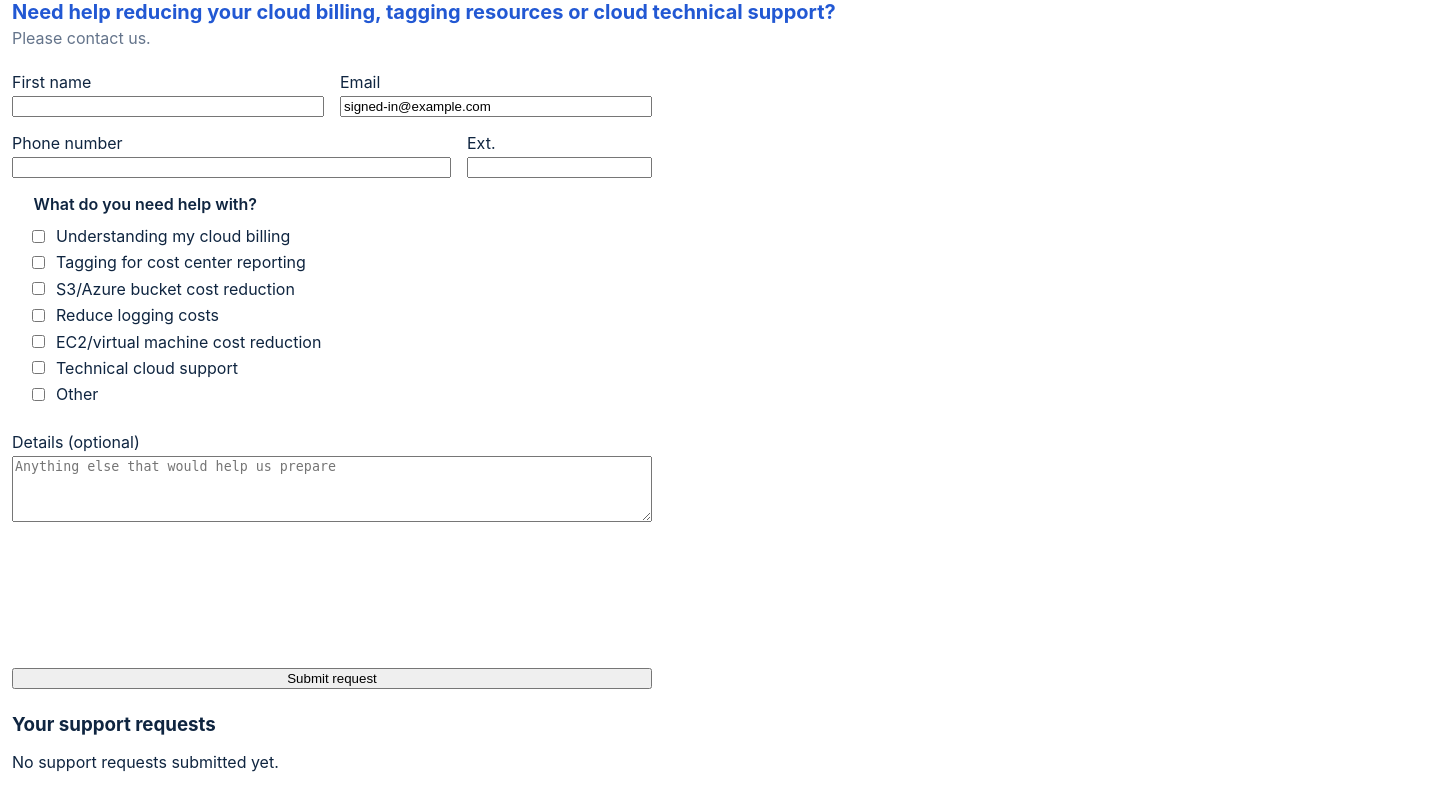
Test case: SupportTab › submits the chosen topics and contact details, then refreshes the grid
In the field labelled "First name": coordinates (168, 106) [12, 96, 324, 117], type "Dana"
In the field labelled "Phone number": coordinates (232, 168) [12, 157, 451, 178], type "555-0100"
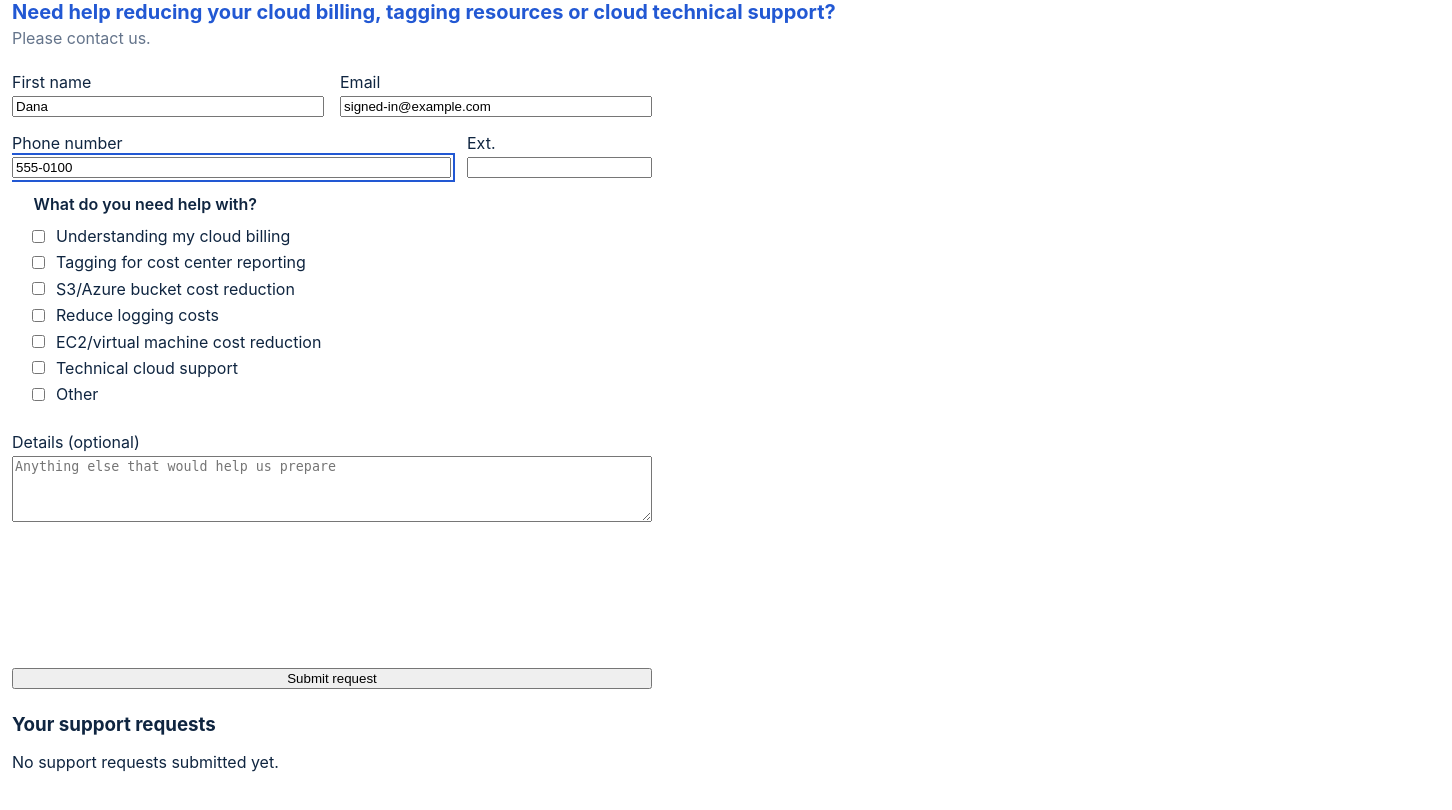
In the field labelled "Ext.": coordinates (560, 168) [467, 157, 652, 178], type "42"
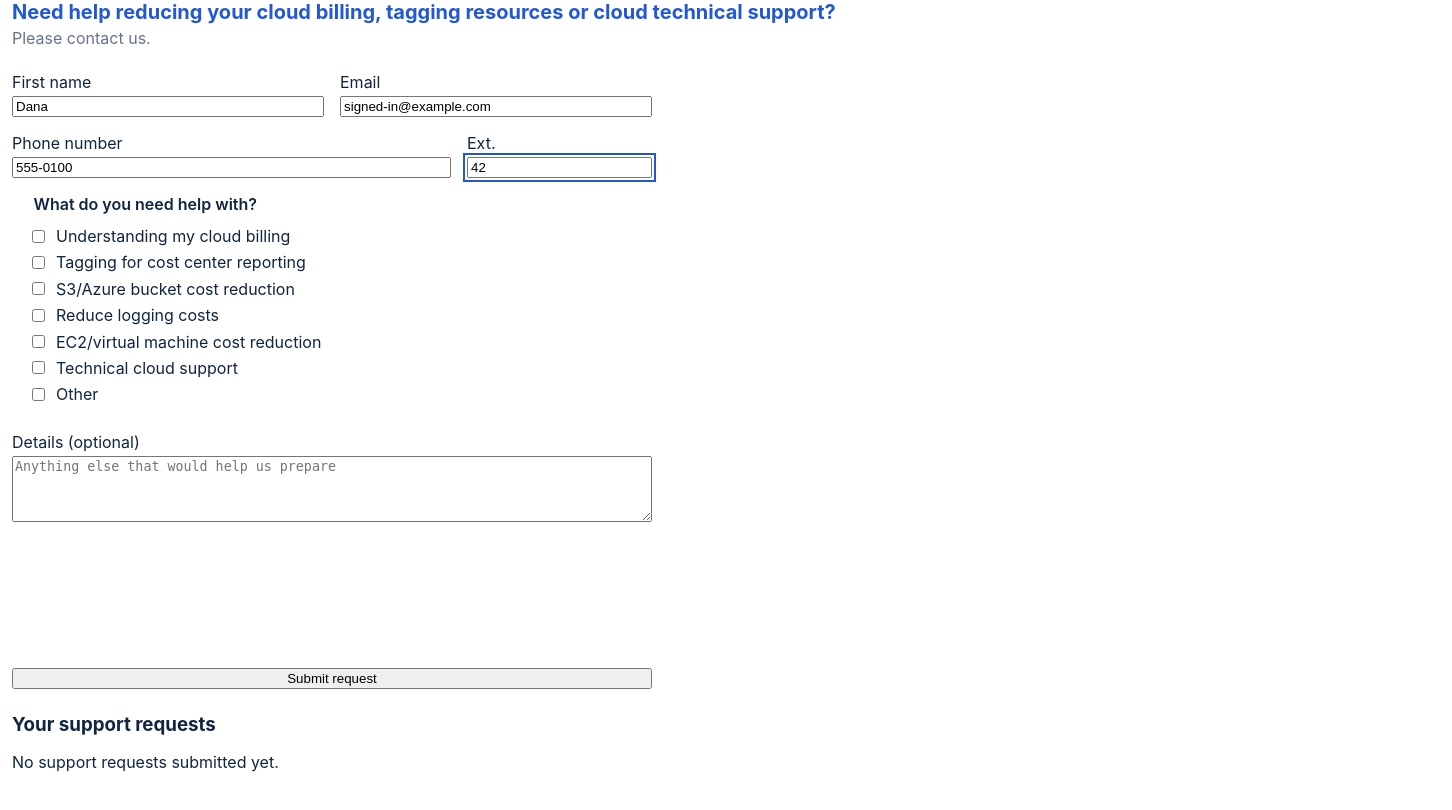
Click the checkbox labelled "Reduce logging costs": coordinates (38, 315) [32, 309, 45, 322]
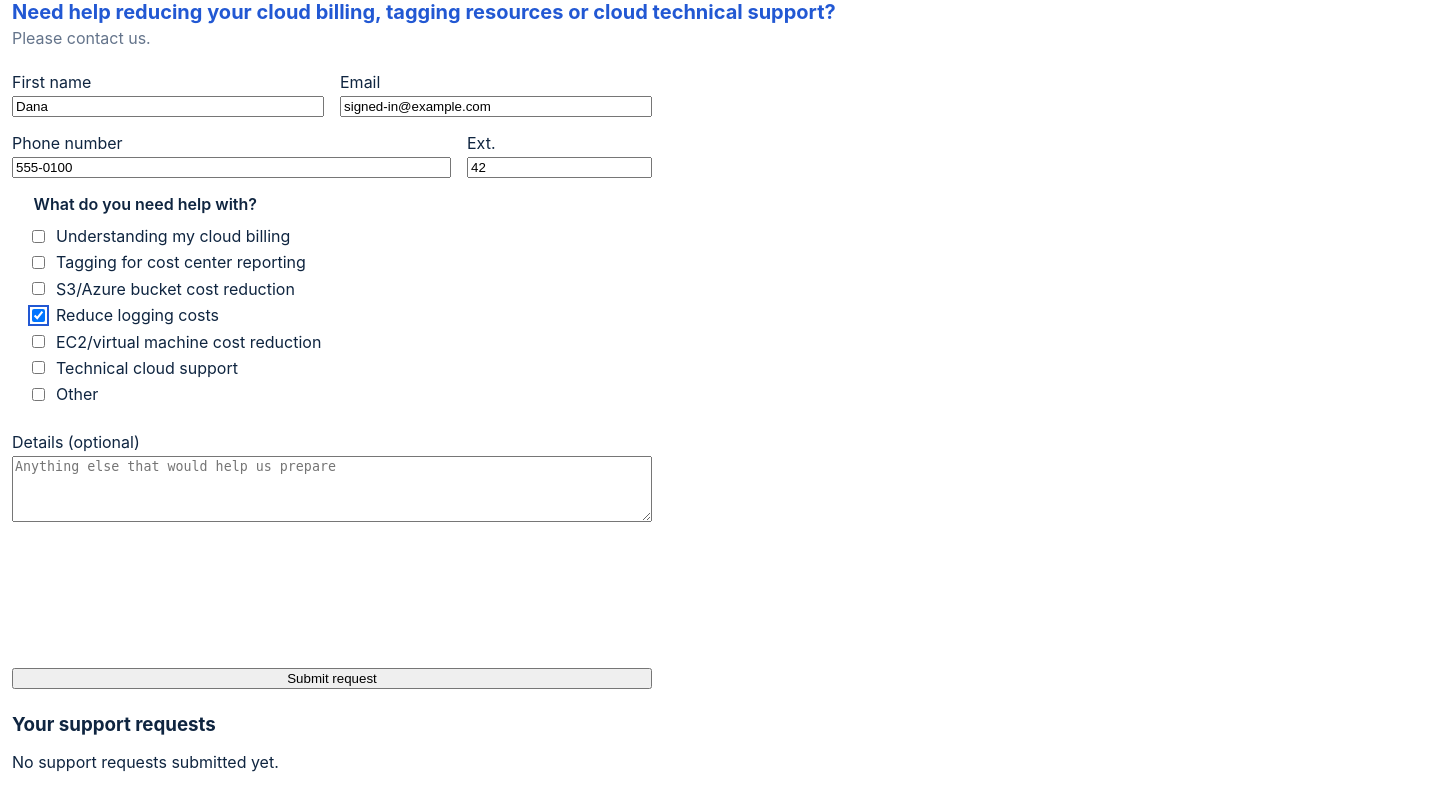
Click the checkbox labelled "Technical cloud support": coordinates (38, 368) [32, 362, 45, 374]
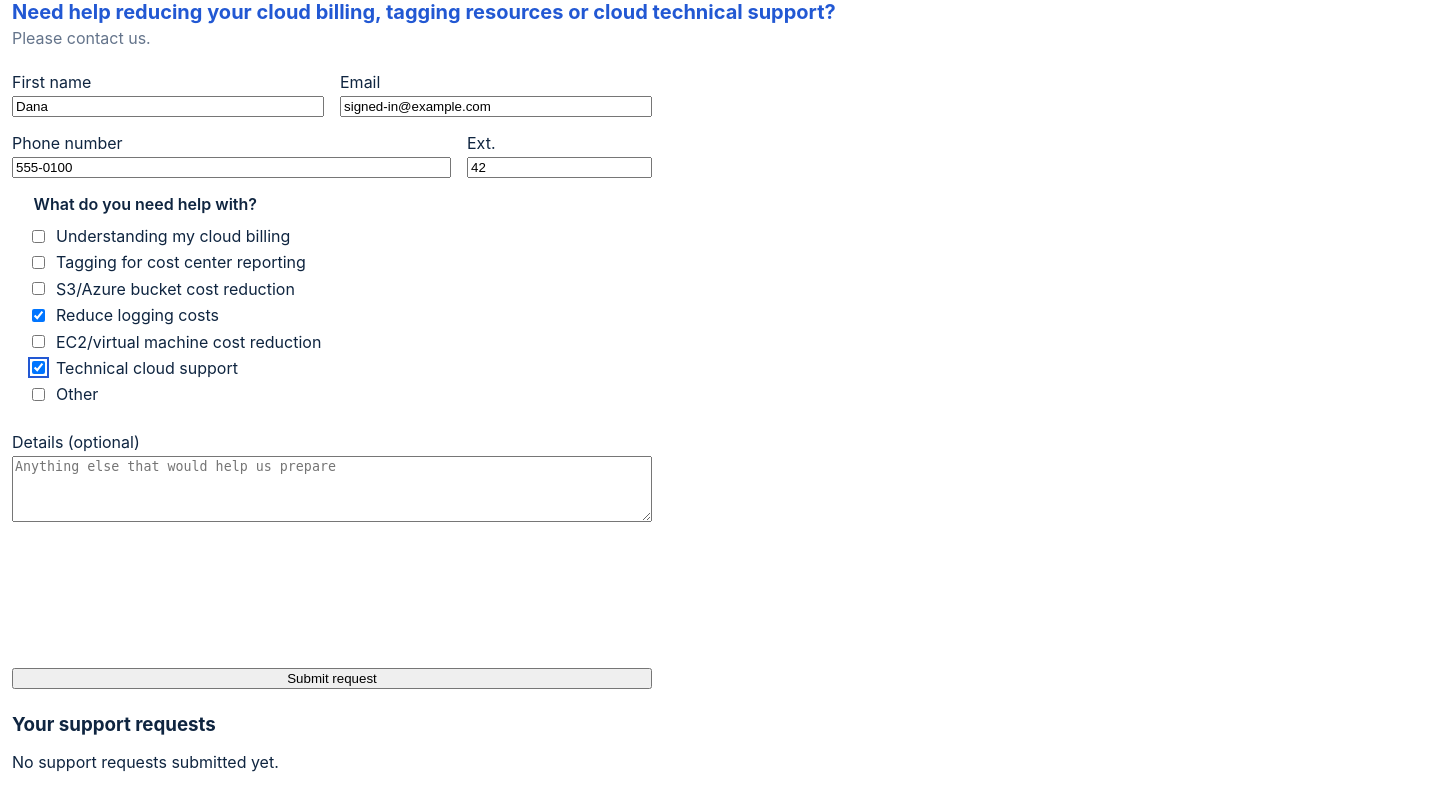
In the text box labelled "Details (optional)": coordinates (332, 489) [12, 456, 652, 522], type "Logs are huge"
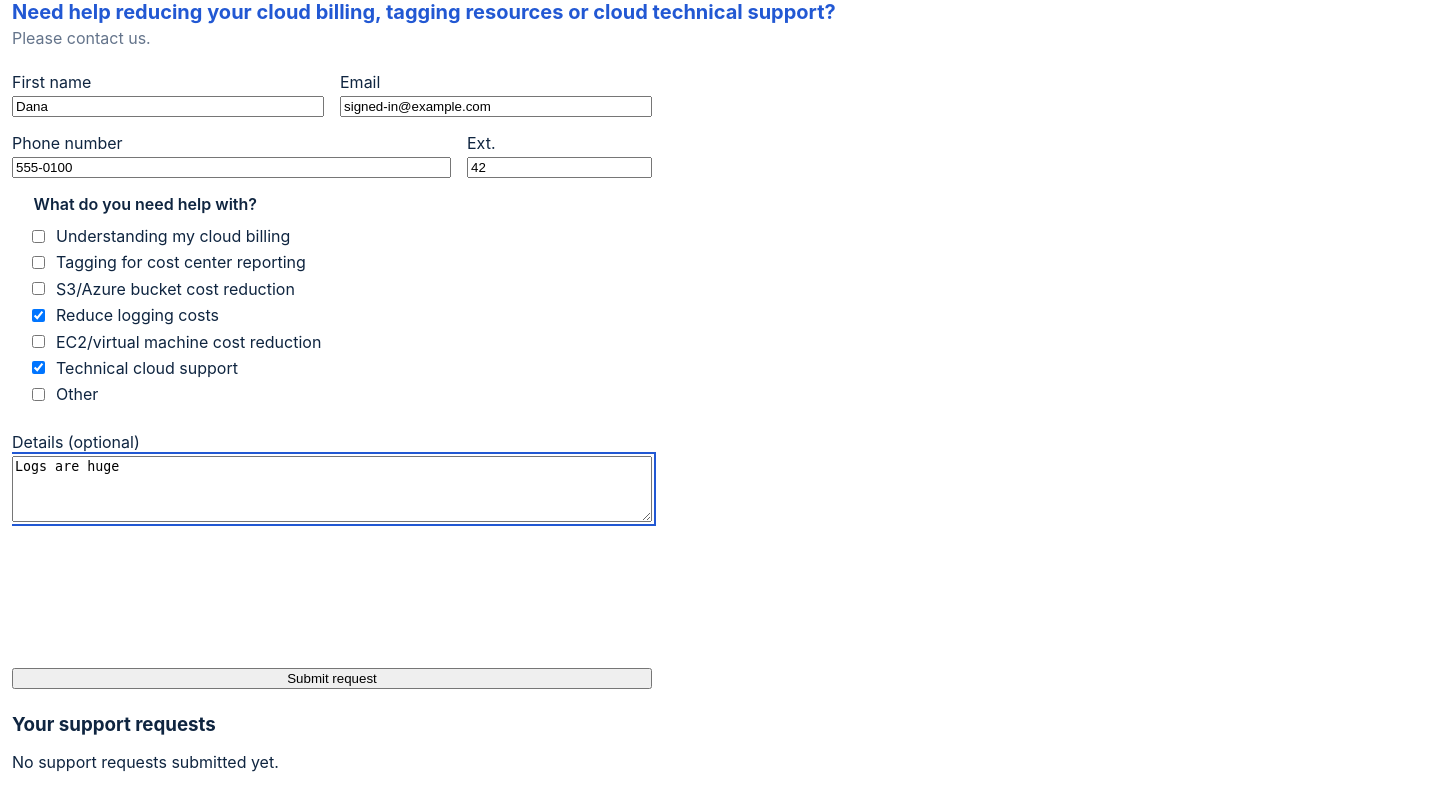
Click the button "Submit request": coordinates (332, 679) [12, 668, 652, 689]
(page scrolled)
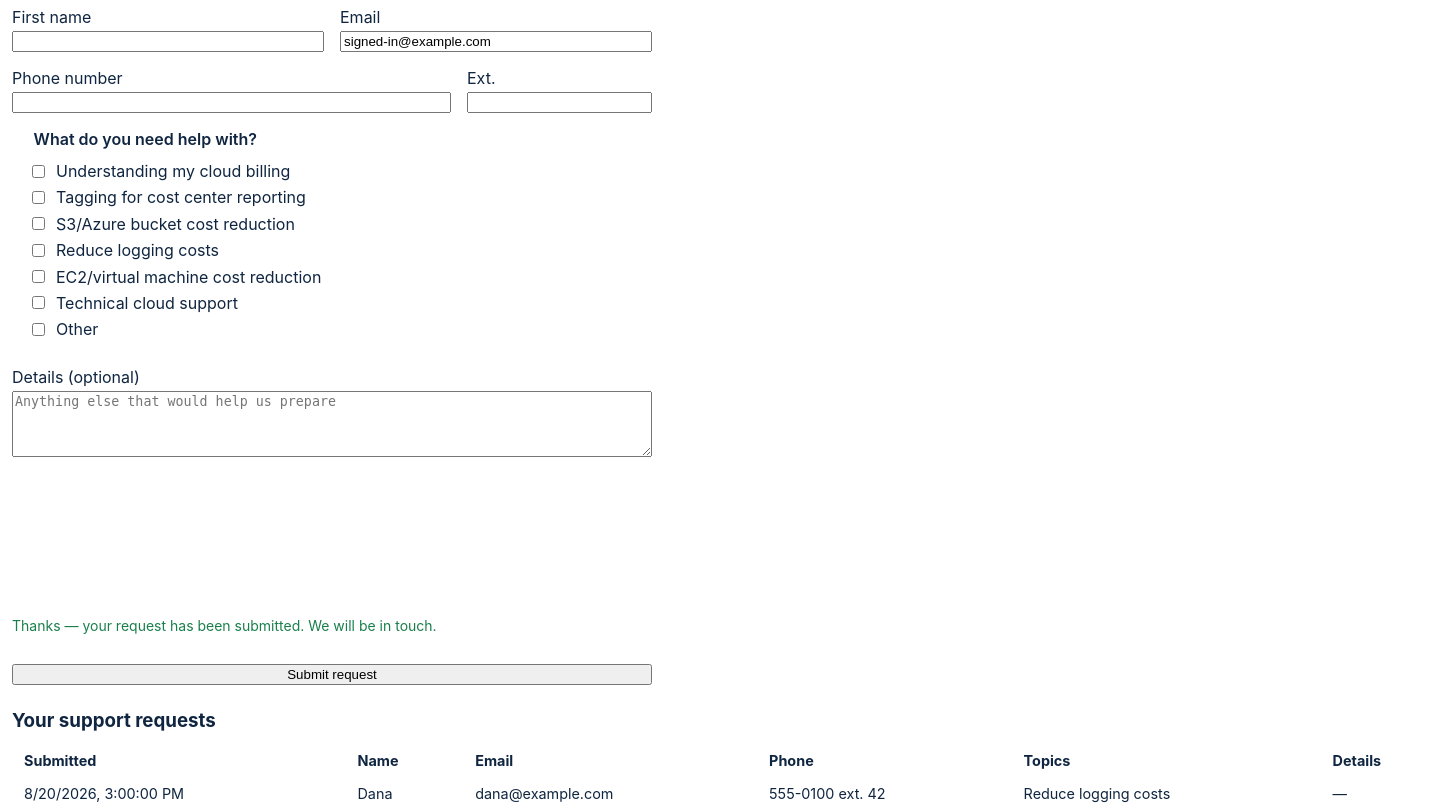
Result: the message "Thanks — your request has been submitted. We will be in touch." is shown at [12, 617, 437, 634]
Result: the text "dana@example.com" is shown at [463, 777, 757, 809]
